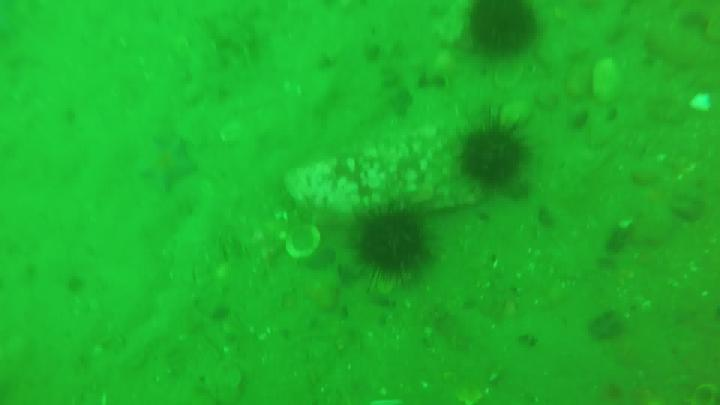echinus: (350, 209, 448, 297), (463, 100, 537, 190), (463, 3, 541, 60)
scallop: (593, 59, 629, 101), (284, 225, 322, 258)
starfish: (135, 138, 198, 194)
